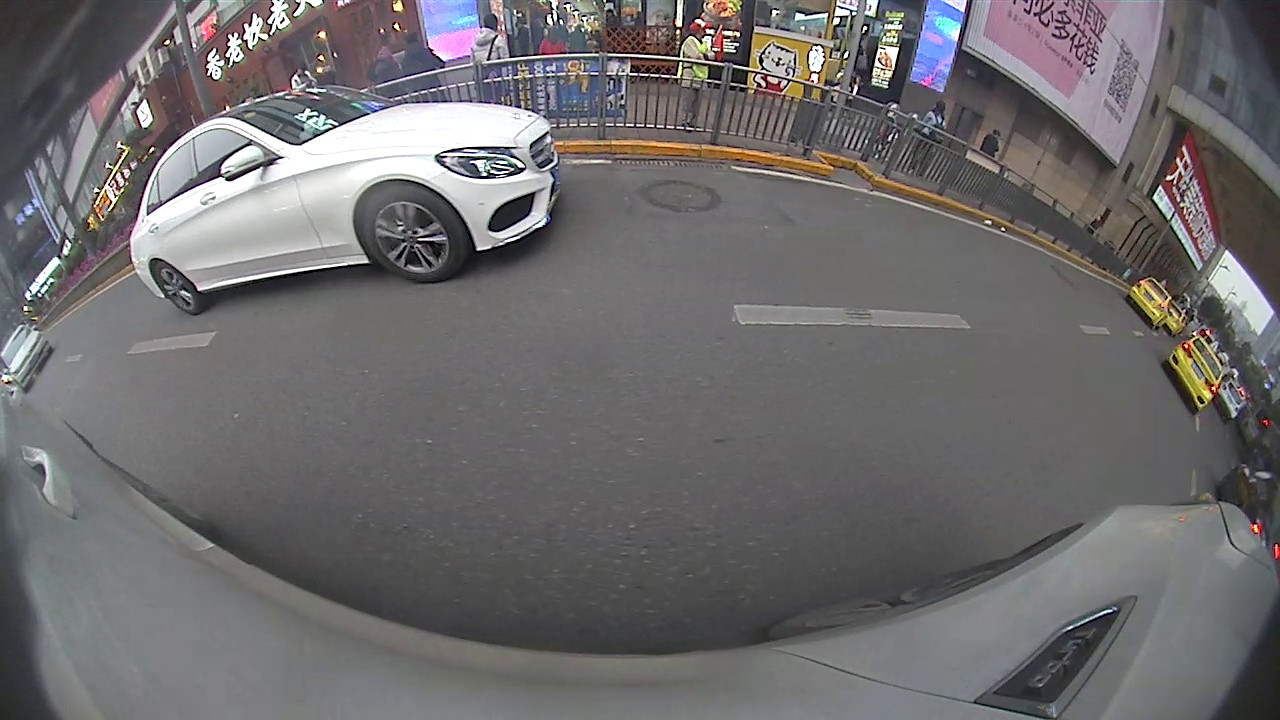car: (127, 85, 558, 315), (1168, 333, 1227, 413), (0, 325, 54, 393), (1124, 276, 1175, 328)
front: (357, 180, 466, 284)
person: (673, 17, 727, 128)
rear: (149, 262, 202, 317)
